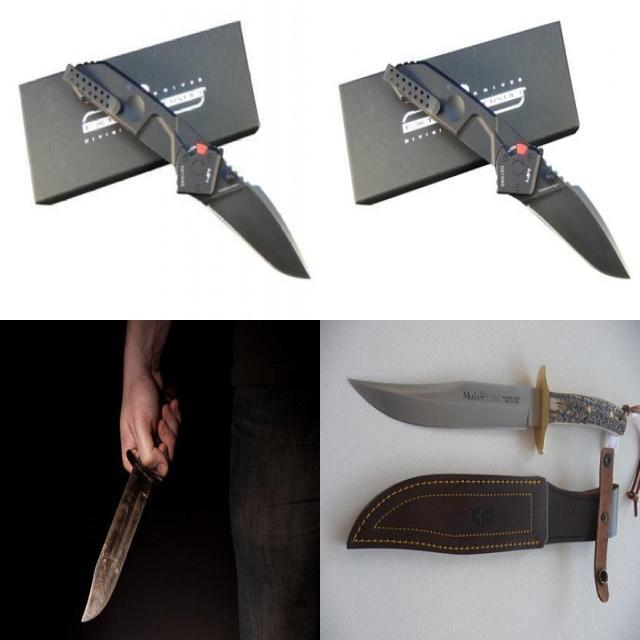-: (75, 392, 181, 631), (194, 156, 312, 281), (514, 157, 632, 281), (338, 370, 542, 441)
